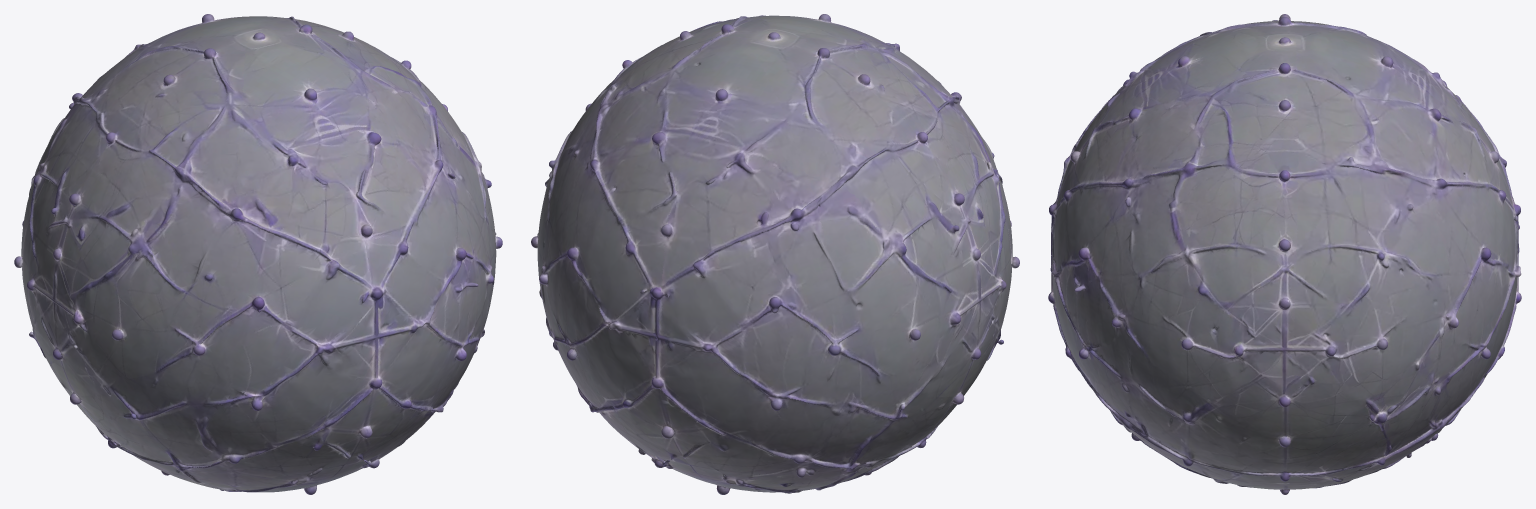
The model's file is aip_neural_mesh.glb.
3 renders of one model, left to right at view 1: azimuth 30°, elevation 25°; view 2: azimuth 150°, elevation 25°; view 3: azimuth 270°, elevation 25°, orthographic.
Visible parts, largest first — view 1: tripo_node_b910cf8e-0d6c-4828-b2cc-5f43ea5e6eac; view 2: tripo_node_b910cf8e-0d6c-4828-b2cc-5f43ea5e6eac; view 3: tripo_node_b910cf8e-0d6c-4828-b2cc-5f43ea5e6eac.
Boxes of the visible parts, x1,y1,x2,y2 form: tripo_node_b910cf8e-0d6c-4828-b2cc-5f43ea5e6eac: (14, 14, 502, 494); tripo_node_b910cf8e-0d6c-4828-b2cc-5f43ea5e6eac: (531, 14, 1019, 494); tripo_node_b910cf8e-0d6c-4828-b2cc-5f43ea5e6eac: (1048, 14, 1521, 494).
Size of the model in its own units: 0.9832 by 0.9999 by 0.9833.
Materials: 1 (1 with a texture image).
